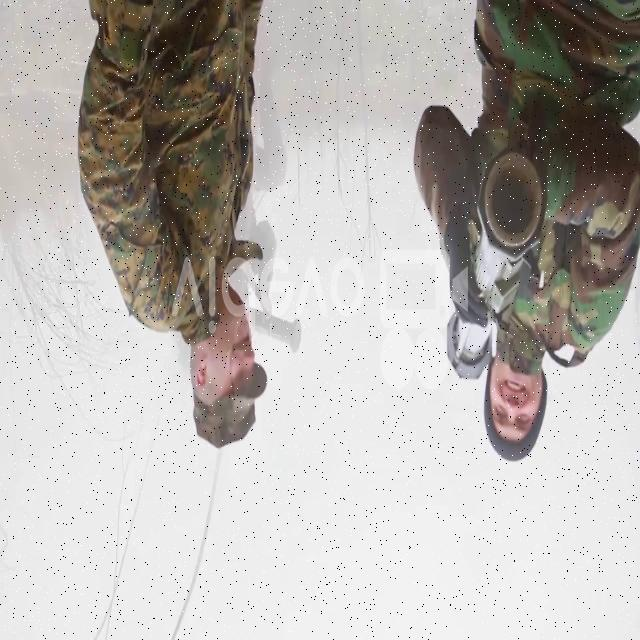bazooka: (449, 133, 553, 385)
